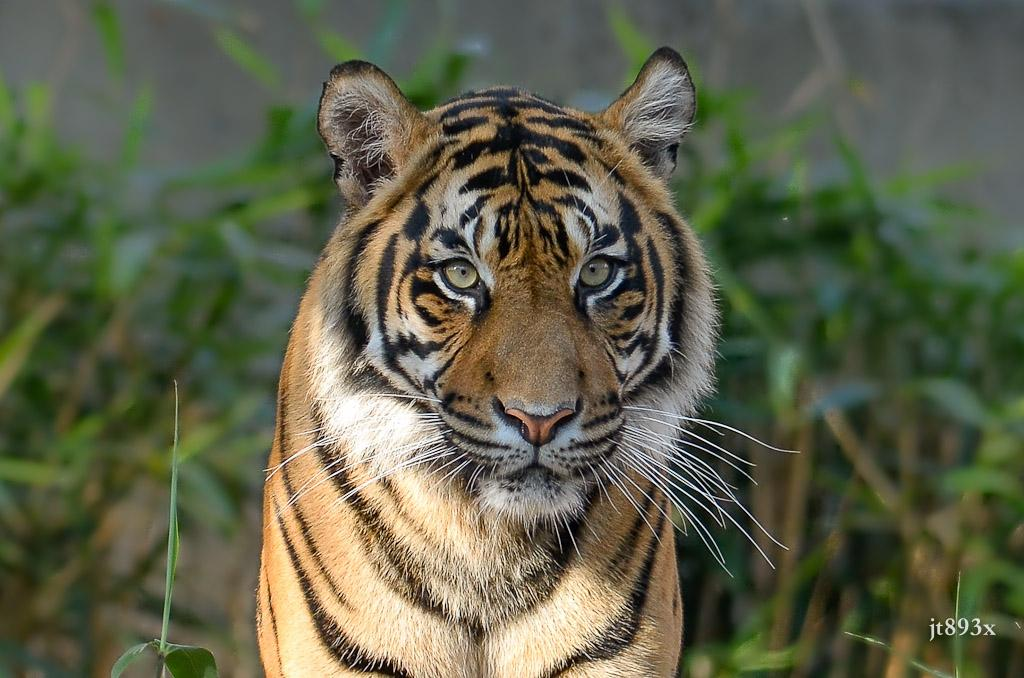tiger: (254, 45, 800, 677)
